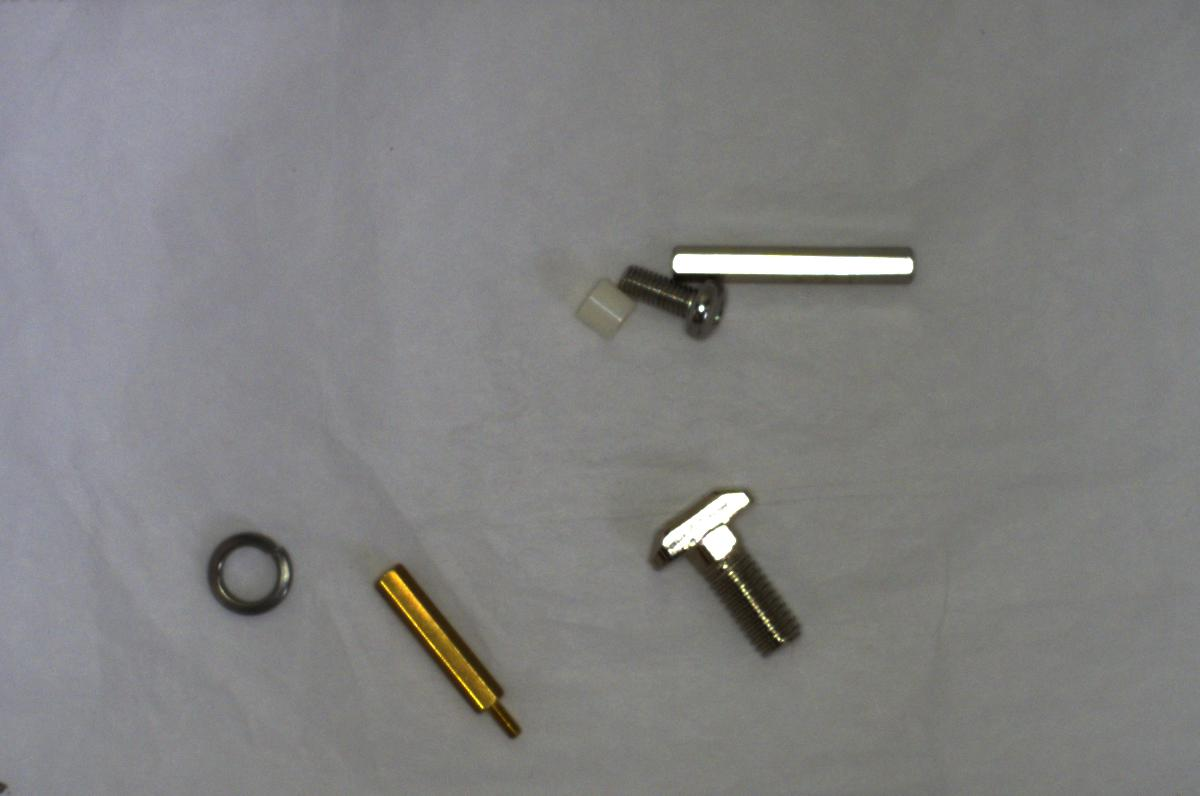Double hexagonal column: (661, 239, 919, 299)
Hexagon pillar: (371, 560, 520, 745)
Plastic cushion pillar: (570, 276, 639, 345)
Round head screw: (620, 259, 735, 343)
Spring washer: (198, 526, 299, 619)
